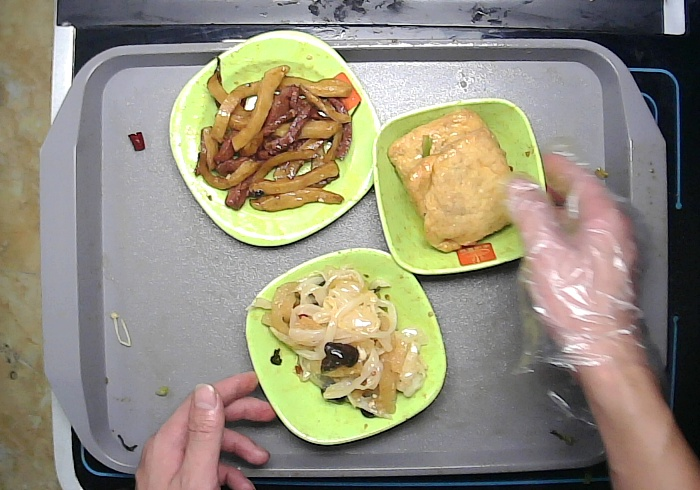SHKJ-Lv_Se_Cai_Die: (244, 245, 449, 445)
SHKJ-Lv_Se_Si_Fang_Cai_Die: (167, 26, 384, 248)
SHKJ-Lv_Se_Xiao_Fang_Die: (371, 95, 548, 275)
